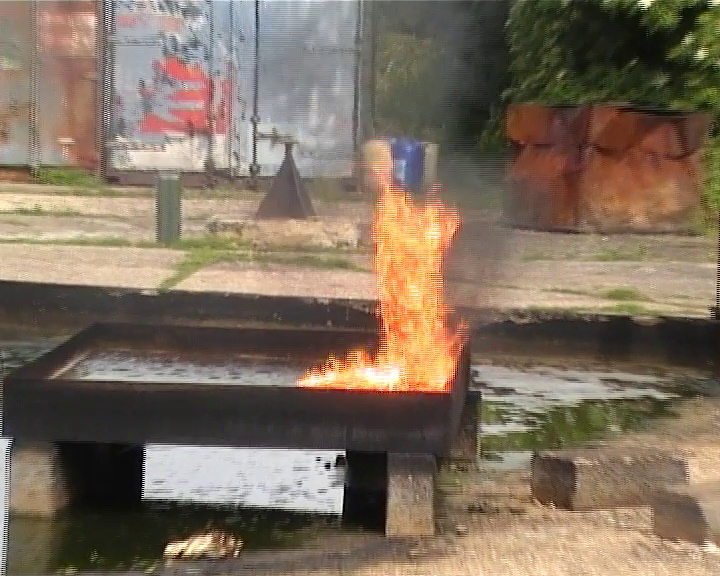fire: (301, 189, 454, 389)
